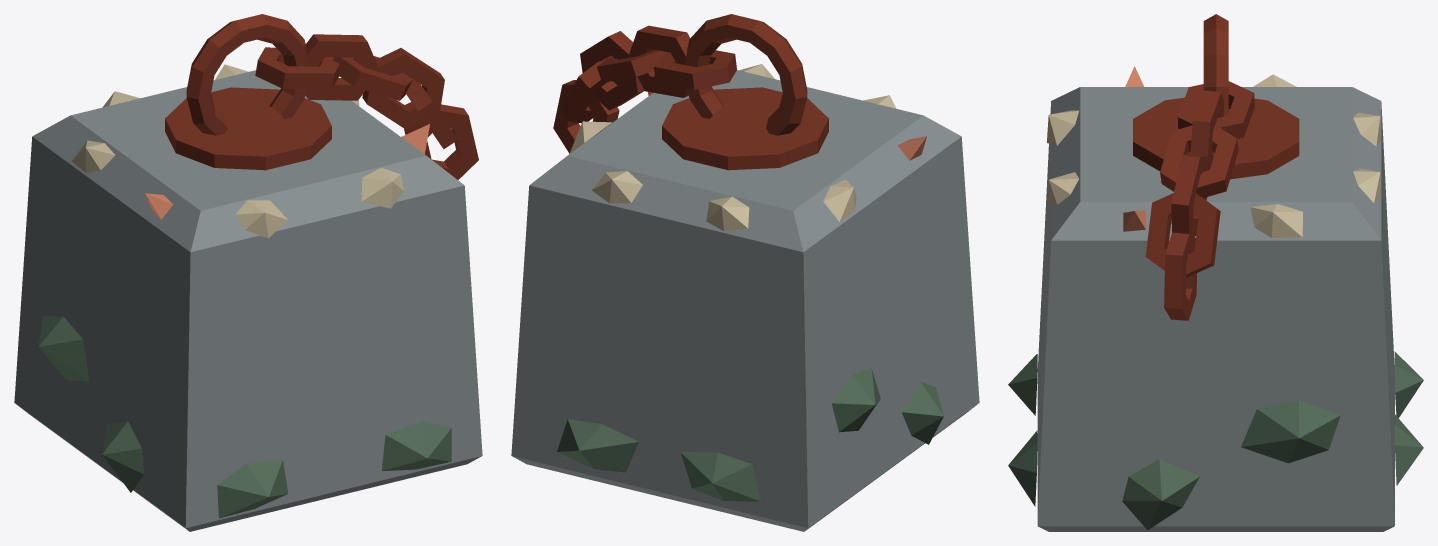
Rendered from mooring-block-794549.glb.
The picture shows the model from 3 angles, left to right: view 1: azimuth 30°, elevation 25°; view 2: azimuth 150°, elevation 25°; view 3: azimuth 270°, elevation 25°; orthographic projection. The views are drawn at different scales.
Visible parts, largest first — view 1: block, chain-links; view 2: block, chain-links; view 3: block, chain-links.
Part boxes in pixels (x1,y1,x2,y2): block: (14, 14, 482, 531); chain-links: (255, 34, 478, 179); block: (511, 14, 979, 531); chain-links: (553, 25, 736, 153); block: (1008, 14, 1423, 531); chain-links: (1145, 81, 1254, 320).
Size of the model in its own units: 1.18 by 1.25 by 1.07.
